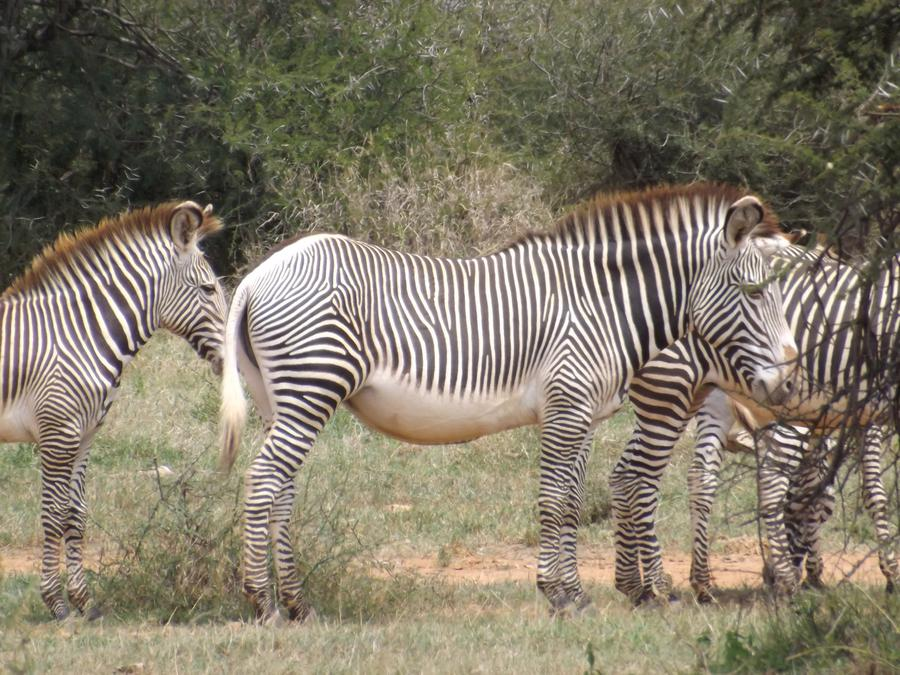zebra_grevys: (242, 228, 608, 413)
